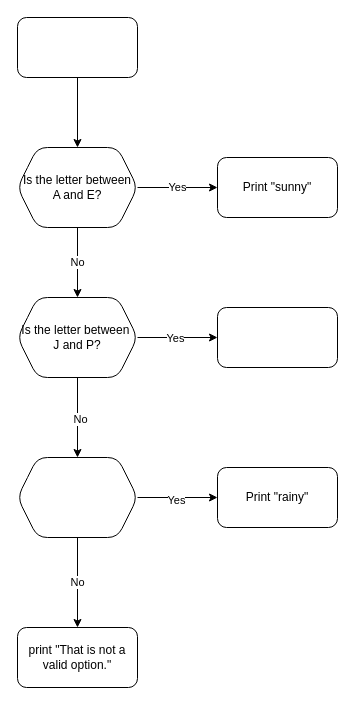
Image size: 355x705. Some labels were removed from this diagram. Here are the shapes that lost their labels. From the top down, the centre of each, then its label:
(77,47): Ask user to enter letter
(277,337): Print "cloudy"
(77,497): Is the letter between Q and X?
